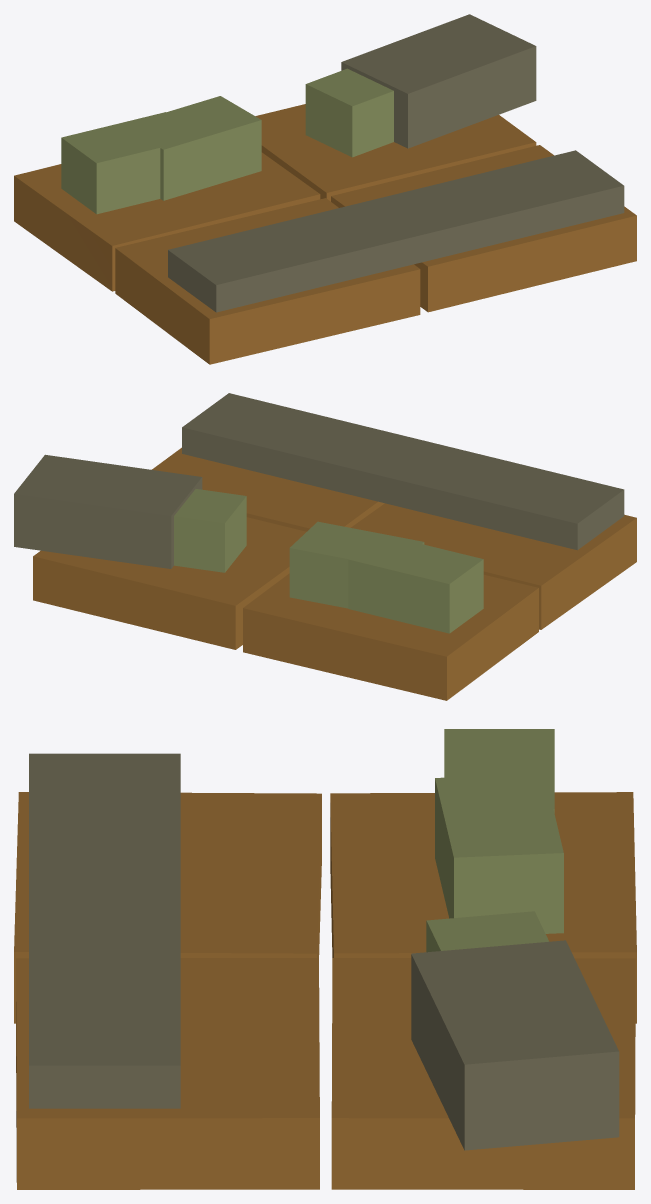
Rendered from SM_BanquetaCorta_v4_LOD1.fbx.
3 views of the same model, one above another, from view 1: azimuth 30°, elevation 25°; view 2: azimuth 150°, elevation 25°; view 3: azimuth 270°, elevation 25° (orthographic). The views are drawn at different scales.
Visible parts, largest first — view 1: SM_banqueta_tiro_v14_LOD1; view 2: SM_banqueta_tiro_v14_LOD1; view 3: SM_banqueta_tiro_v14_LOD1.
Part boxes in pixels (box(x1,y1,x2,y2)): SM_banqueta_tiro_v14_LOD1: box(14, 14, 636, 364); SM_banqueta_tiro_v14_LOD1: box(14, 393, 636, 700); SM_banqueta_tiro_v14_LOD1: box(14, 729, 636, 1189).
Size of the model in its own units: 2.69 by 0.55 by 1.97.
